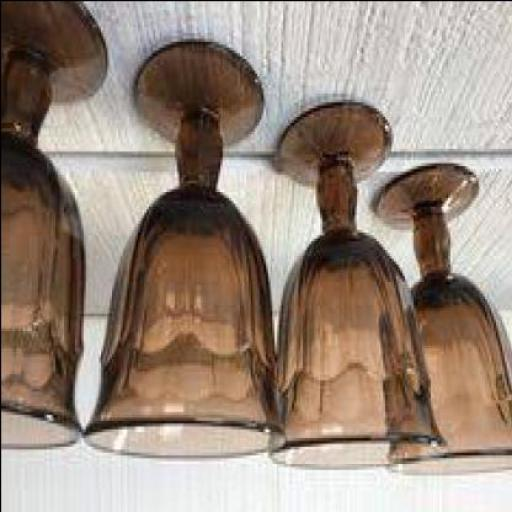glass: (84, 46, 286, 460), (269, 101, 447, 471), (2, 3, 109, 451), (375, 164, 511, 475)
